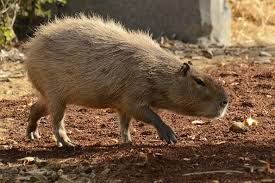capivara: (21, 14, 229, 149)
